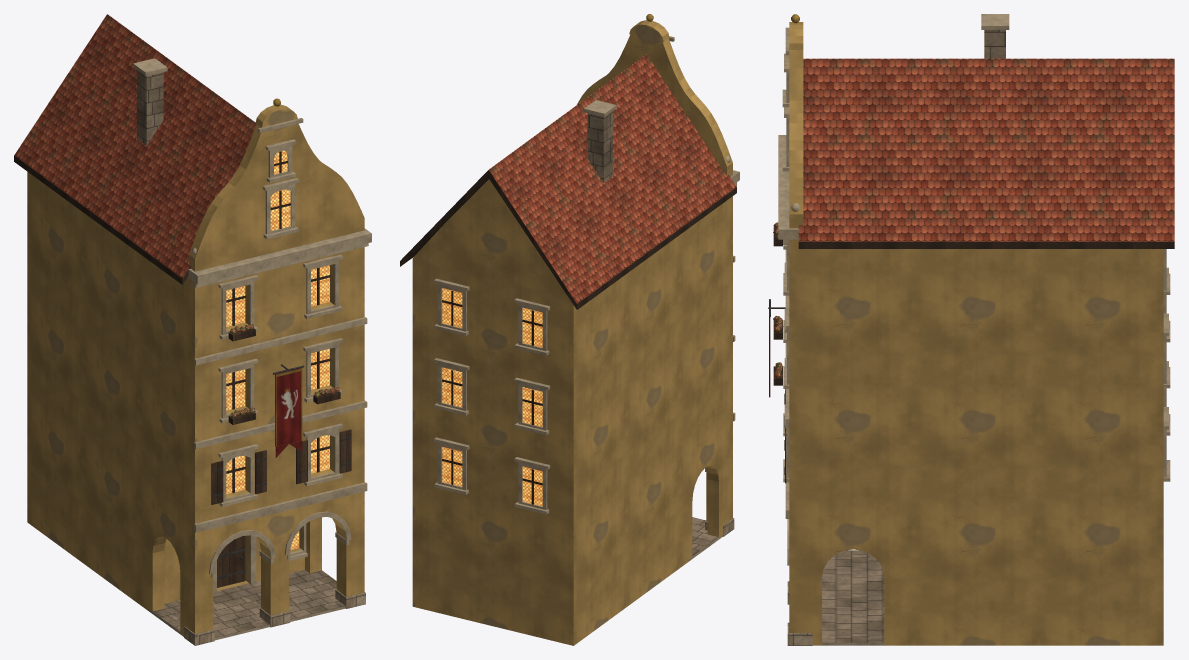
File: house_burgher_a.gltf
3 renders of one model, left to right at view 1: azimuth 30°, elevation 25°; view 2: azimuth 150°, elevation 25°; view 3: azimuth 270°, elevation 25°, orthographic. The views are drawn at different scales.
Visible parts, largest first — view 1: house_burgher_a_mesh, INT_door_house_burgher_a, INT_window_house_burgher_a_0, INT_window_house_burgher_a_1, INT_window_house_burgher_a_1_shutter_R, INT_window_house_burgher_a_0_shutter_L, INT_window_house_burgher_a_0_shutter_R; view 2: house_burgher_a_mesh; view 3: house_burgher_a_mesh.
Boxes of the visible parts, x1,y1,x2,y2 form: house_burgher_a_mesh: (14, 14, 371, 645); INT_door_house_burgher_a: (217, 536, 245, 587); INT_window_house_burgher_a_0: (226, 456, 245, 494); INT_window_house_burgher_a_1: (311, 435, 330, 473); INT_window_house_burgher_a_1_shutter_R: (339, 429, 351, 473); INT_window_house_burgher_a_0_shutter_L: (211, 460, 223, 504); INT_window_house_burgher_a_0_shutter_R: (255, 450, 266, 494); house_burgher_a_mesh: (400, 14, 739, 645); house_burgher_a_mesh: (768, 14, 1174, 645).
Size of what is drawn, in the model's own units: 7.7 by 20.68 by 13.02.
Materials: 17 (17 with a texture image).
